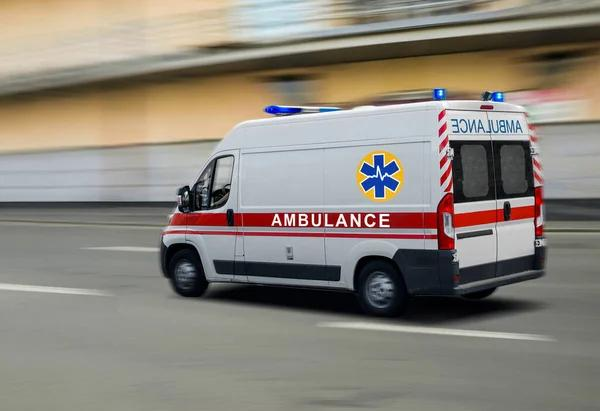ambulance_on: (159, 87, 550, 317)
